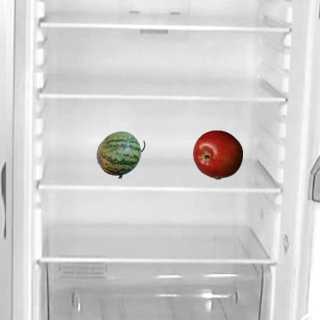Apple Braeburn: (192, 129, 242, 179)
Watermelon: (95, 129, 145, 179)
